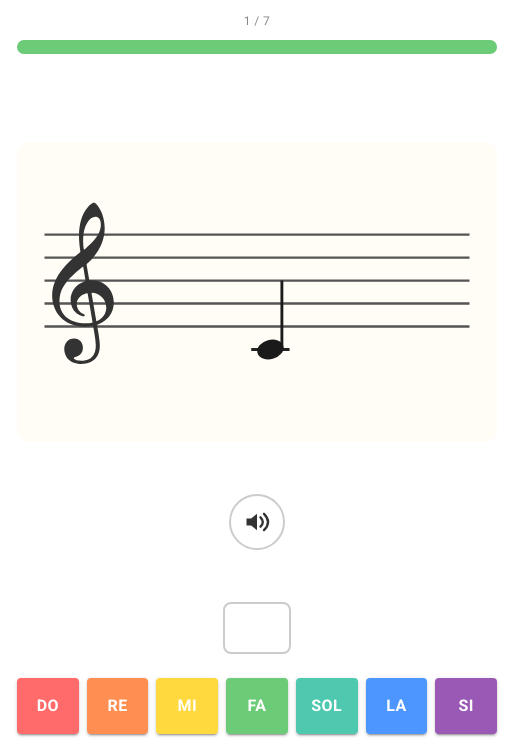
Scenario: labels both answers and the correct answer using es/solfege
Click the button "Do": (48, 706) [17,678,79,734]
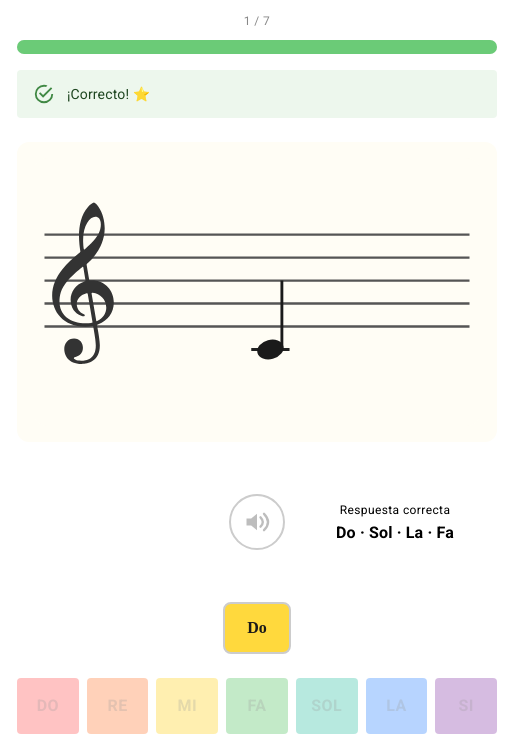
expect the element "Respuesta correcta" shows "Do": met, box [336,522,454,541]
expect the element "Respuesta correcta" shows "La": met, box [336,522,454,541]
